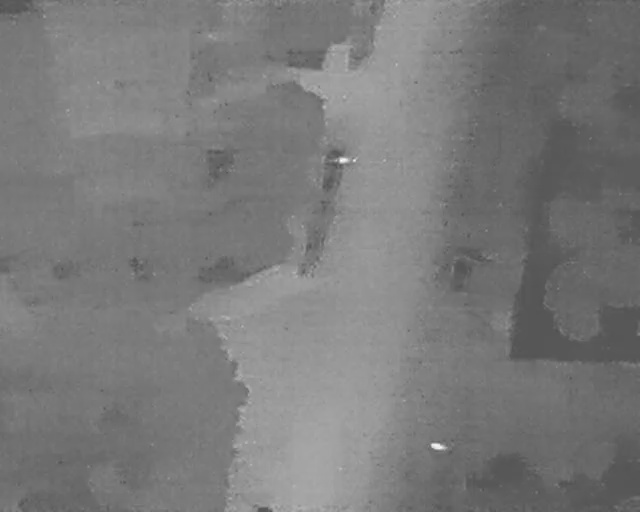Car: (447, 244, 475, 295)
